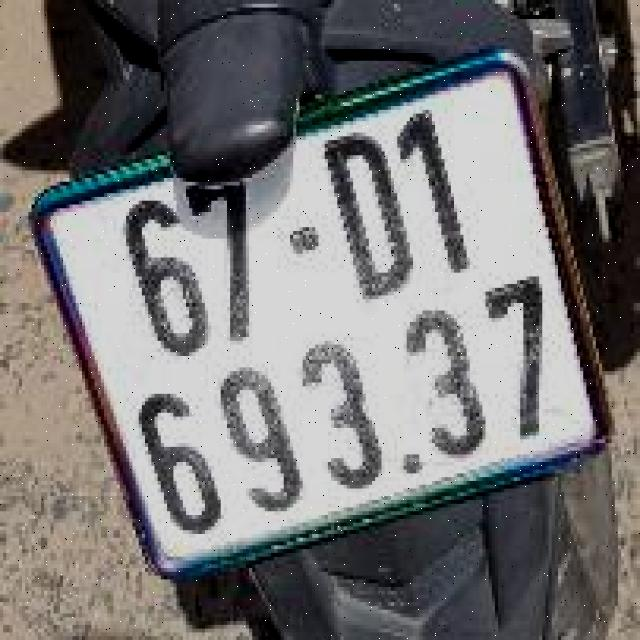1: (392, 92, 494, 285)
3: (299, 335, 388, 491), (405, 305, 487, 464)
6: (121, 195, 213, 358), (134, 380, 219, 540)
7: (173, 155, 284, 352), (484, 263, 572, 445)
9: (219, 364, 304, 515)
D: (322, 129, 413, 299)
